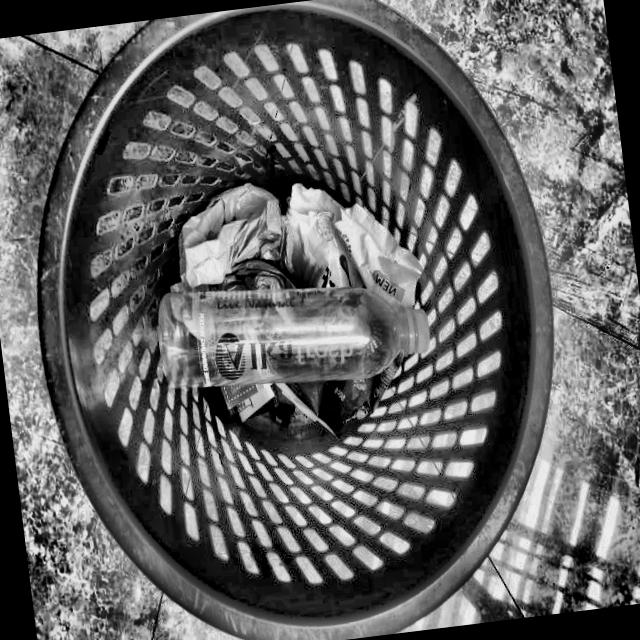Bottle-Disposed: (11, 0, 586, 640)
